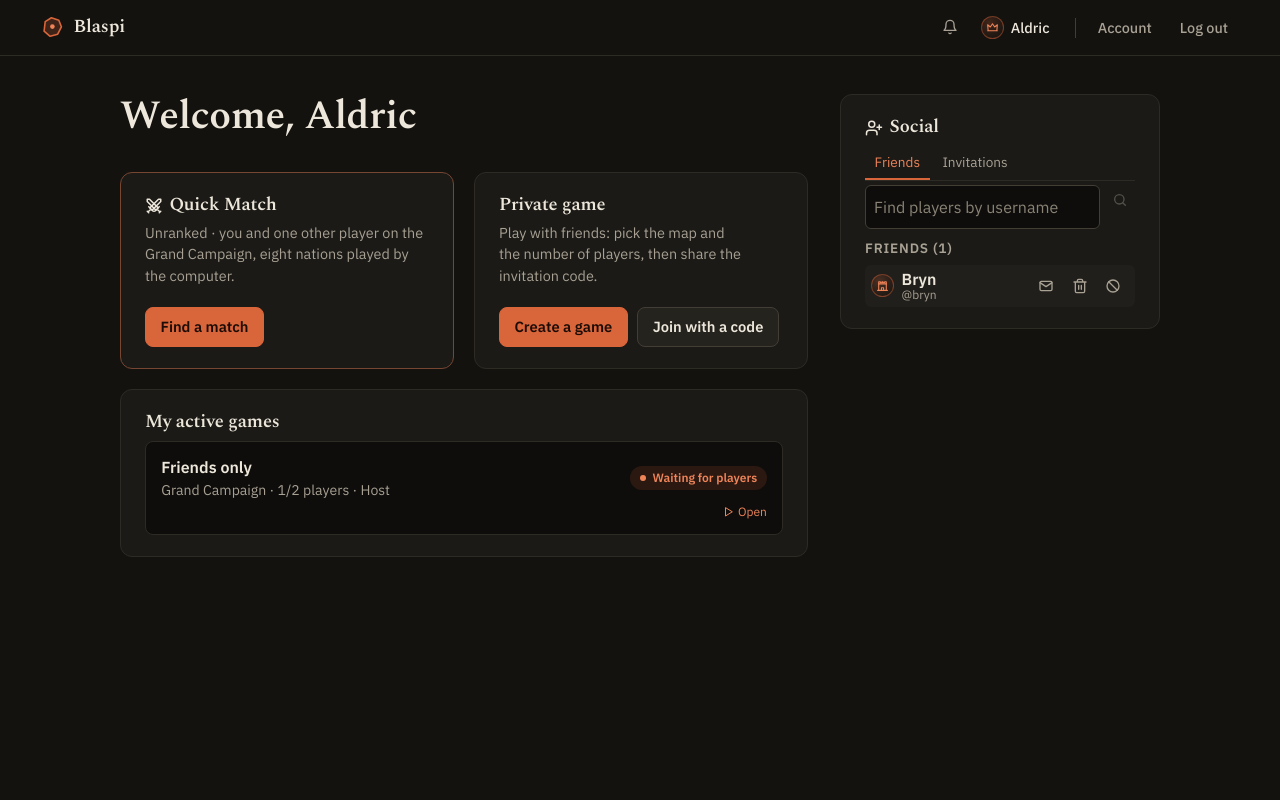
Test: Friends (12B) › invites a friend into a lobby the player hosts
The width and height of the screenshot is (1280, 800).
What coordinates should you click on to do the following:
click the button named "Invite Bryn to Friends only"
I would click on:
 (1046, 286)
Its box is [1031,271,1062,301].
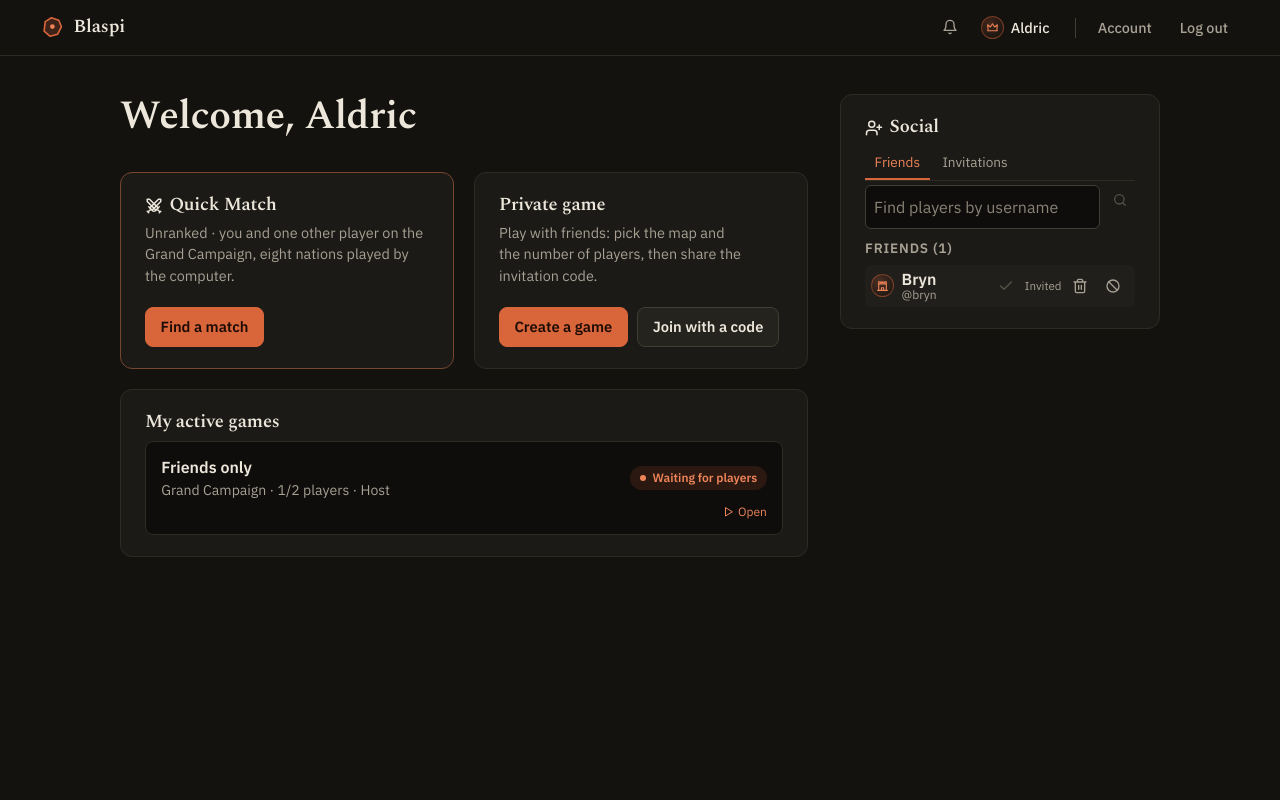
Expected: the text "Invited" is shown, [1025,277,1061,295]
